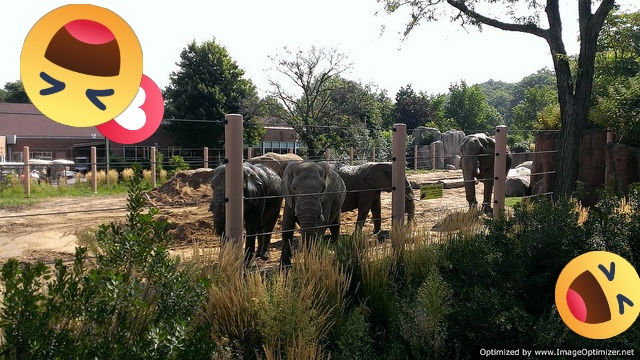haha: (20, 4, 143, 127), (555, 251, 640, 339)
love: (91, 71, 164, 144)
